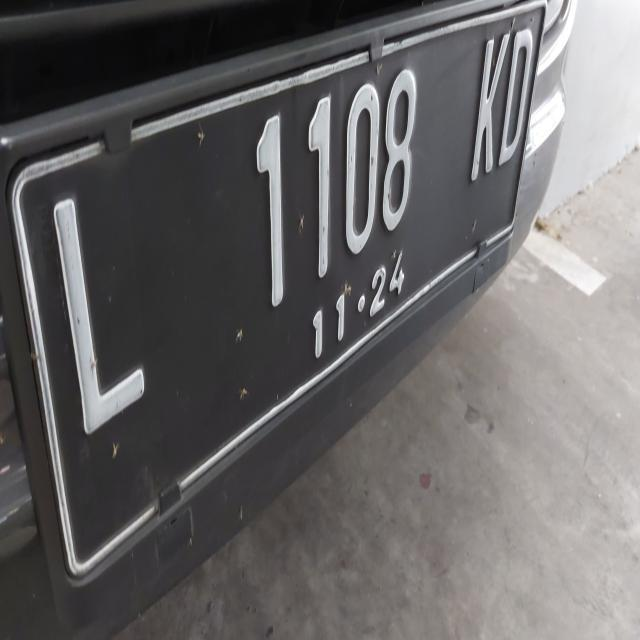0: (340, 83, 383, 260)
1: (228, 103, 300, 313), (296, 86, 348, 286)
8: (378, 58, 424, 246)
D: (502, 20, 538, 179)
K: (468, 22, 518, 188)
L: (30, 175, 154, 440)
